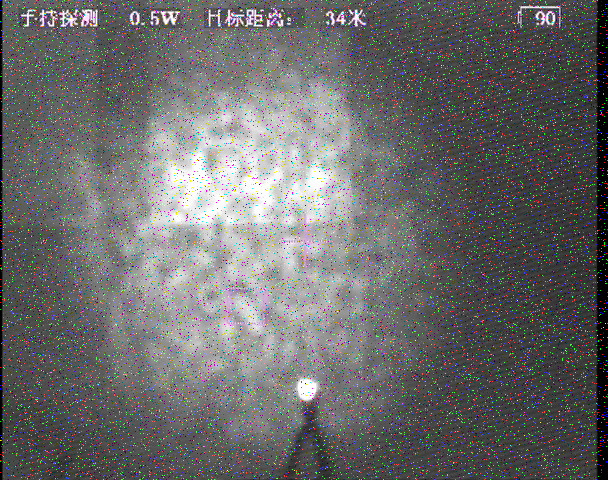my: (295, 377, 320, 403)
